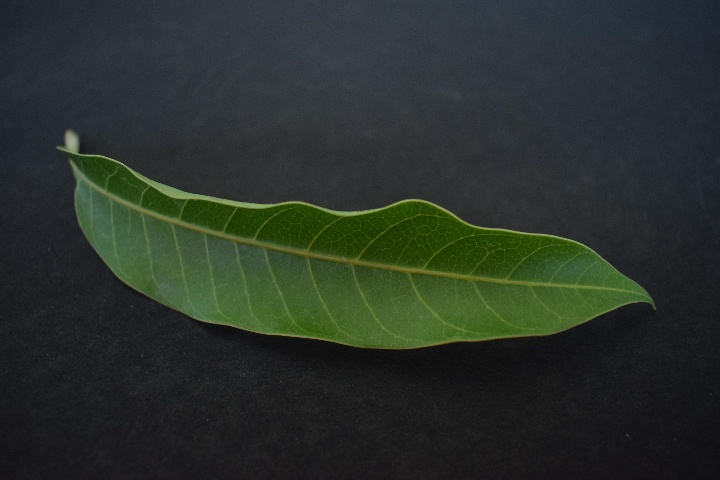healthy: (69, 143, 657, 356)
